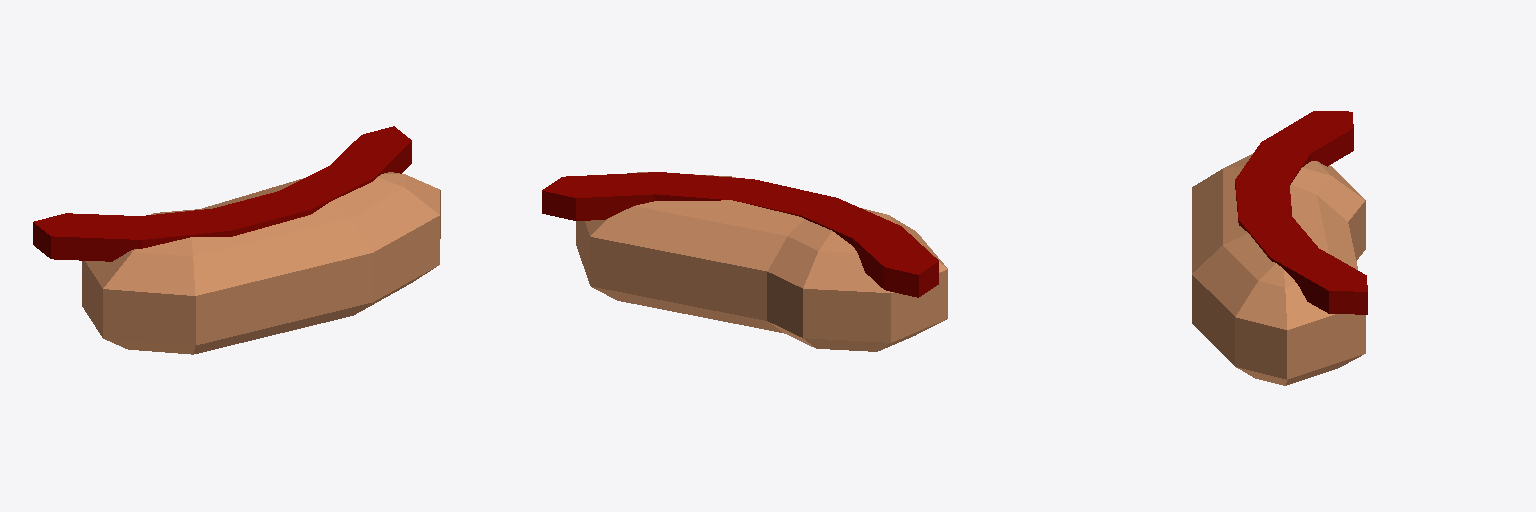
Rendered from Hot-Dog.obj.
3 views of the same model, side by side, from view 1: azimuth 30°, elevation 25°; view 2: azimuth 150°, elevation 25°; view 3: azimuth 270°, elevation 25° (orthographic).
Parts seen in each view (by area): view 1: mergedBlocks; view 2: mergedBlocks; view 3: mergedBlocks.
Boxes of the visible parts, x1=… form: mergedBlocks: x1=33, y1=126, x2=440, y2=354; mergedBlocks: x1=542, y1=172, x2=947, y2=351; mergedBlocks: x1=1192, y1=111, x2=1367, y2=385.
Bounding box in the file's own units: 0.3755 × 0.1014 × 0.1522.